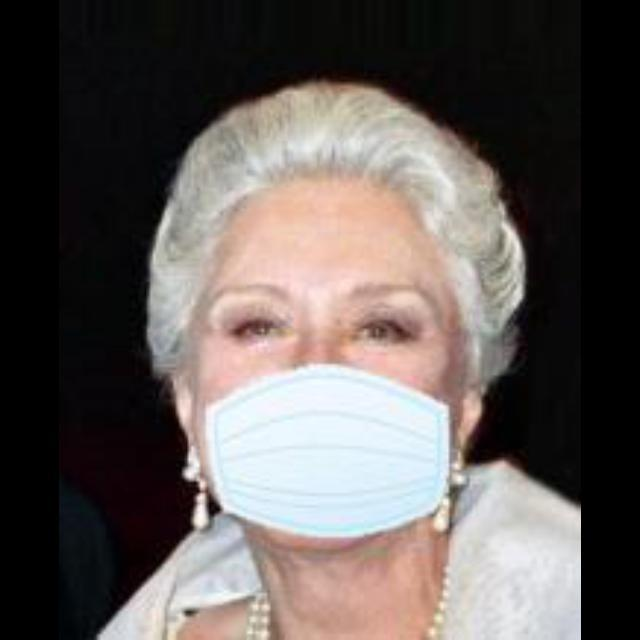suspicion: (152, 117, 518, 539)
